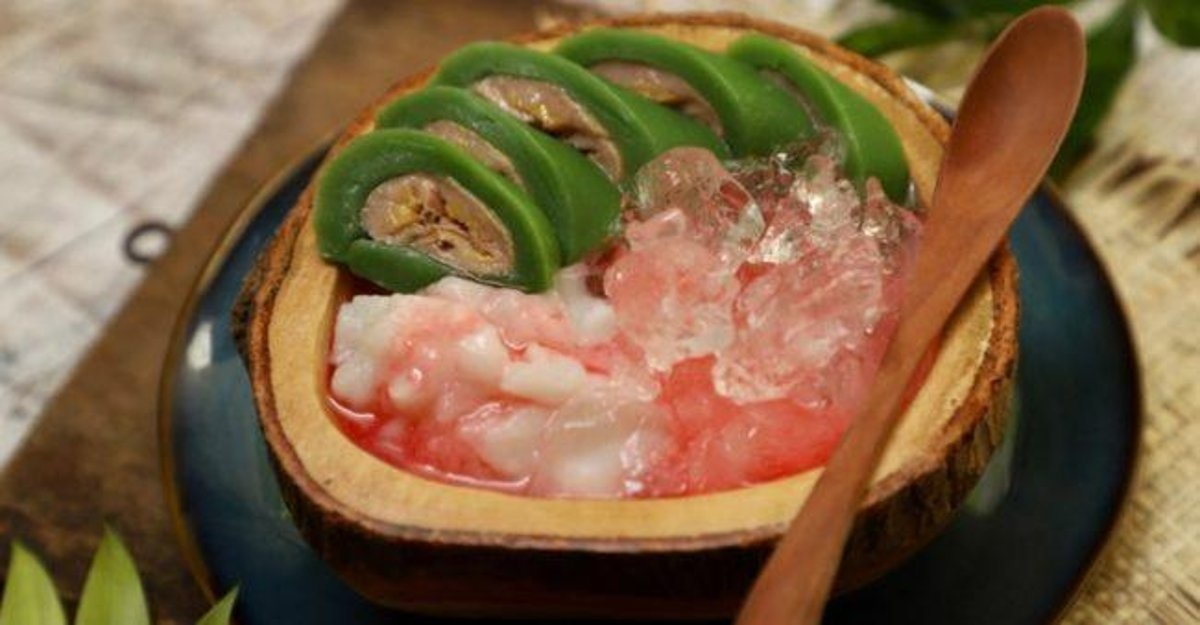pisang_ijo: (284, 126, 559, 326)
